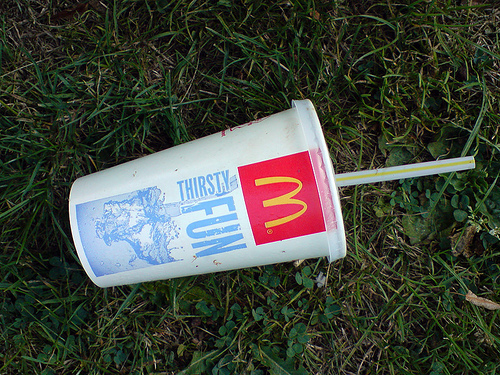litter: (65, 99, 476, 288)
